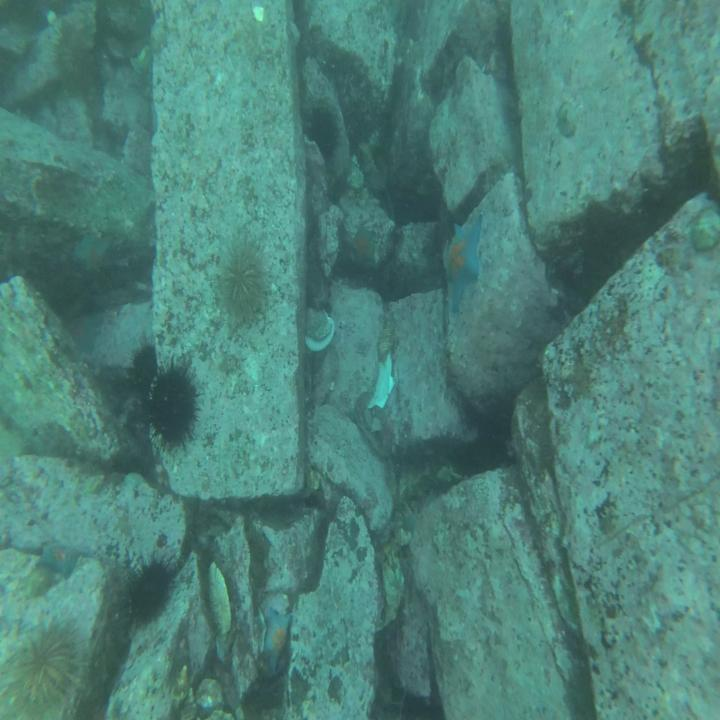echinus: (6, 610, 80, 717), (145, 360, 199, 448), (222, 239, 270, 324), (119, 562, 170, 624), (305, 106, 339, 167), (131, 347, 157, 393)
scallop: (206, 562, 230, 644), (304, 306, 337, 357), (371, 351, 397, 415)
starfish: (445, 226, 484, 308), (264, 606, 292, 673)
